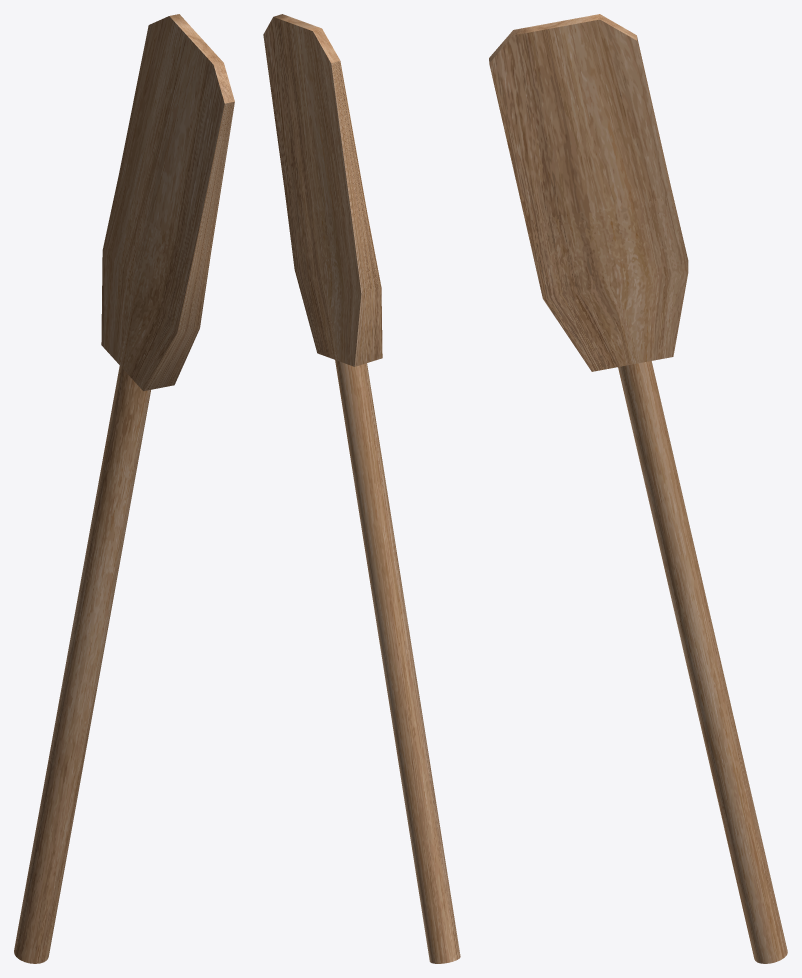
Rendered from PalaCaer.obj.
The picture shows the model from 3 angles, left to right: view 1: azimuth 30°, elevation 25°; view 2: azimuth 210°, elevation 25°; view 3: azimuth 270°, elevation 25°; orthographic projection. The views are drawn at different scales.
Parts seen in each view (by area): view 1: PalaCaer:pCylinder2; view 2: PalaCaer:pCylinder2; view 3: PalaCaer:pCylinder2.
Part boxes in pixels (x1,y1,x2,y2): PalaCaer:pCylinder2: (14,14,234,963); PalaCaer:pCylinder2: (263,14,460,963); PalaCaer:pCylinder2: (489,14,787,963).
Bounding box in the file's own units: 0.8012 × 10.05 × 2.81.
1 material, 1 textured.
